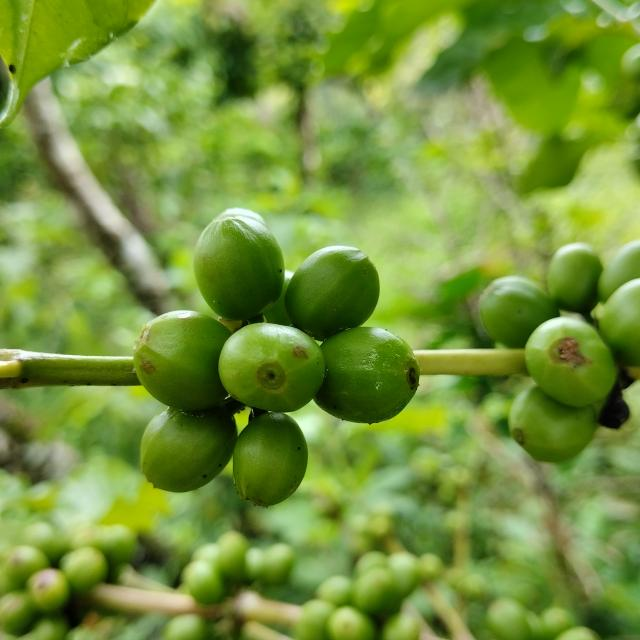green: (314, 327, 420, 424), (133, 311, 231, 411), (218, 323, 325, 413), (193, 215, 284, 320), (285, 246, 380, 341), (525, 317, 618, 407), (140, 407, 237, 493), (232, 413, 308, 508), (509, 387, 599, 463), (479, 276, 560, 348), (548, 242, 604, 313), (599, 278, 640, 367), (599, 239, 640, 301), (263, 270, 294, 326)
